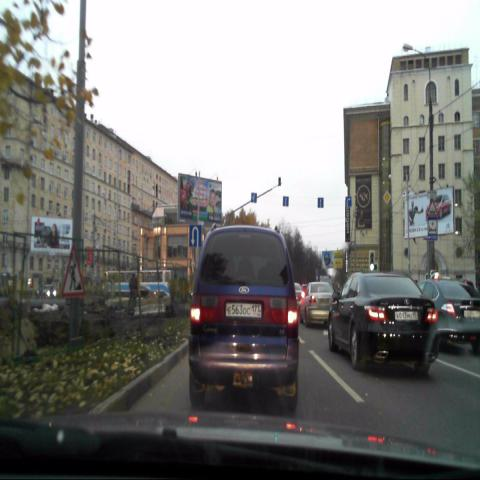6_3_1: (188, 224, 202, 247)
